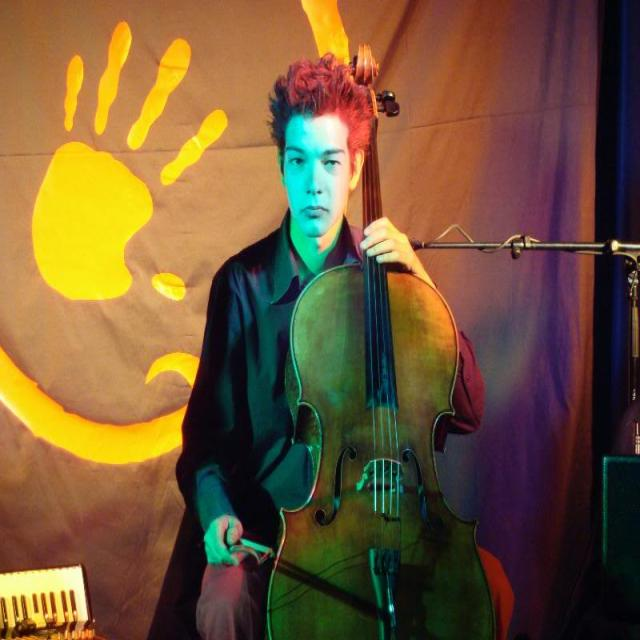cello: (263, 39, 501, 638)
